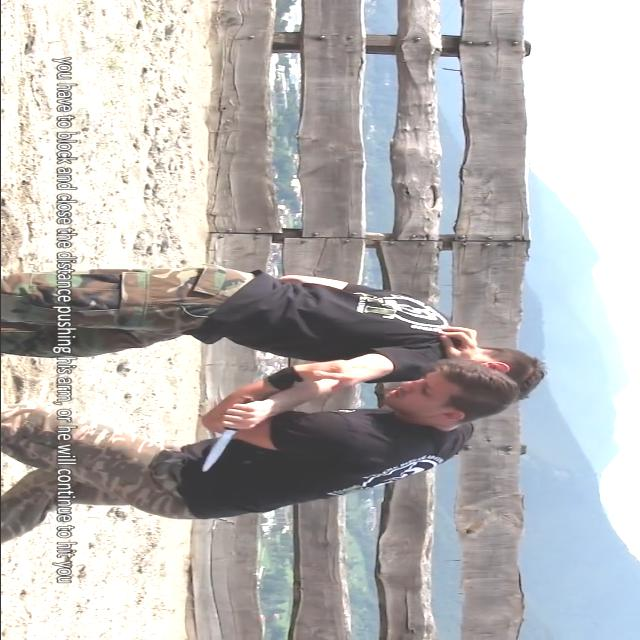knife: (191, 396, 269, 476)
